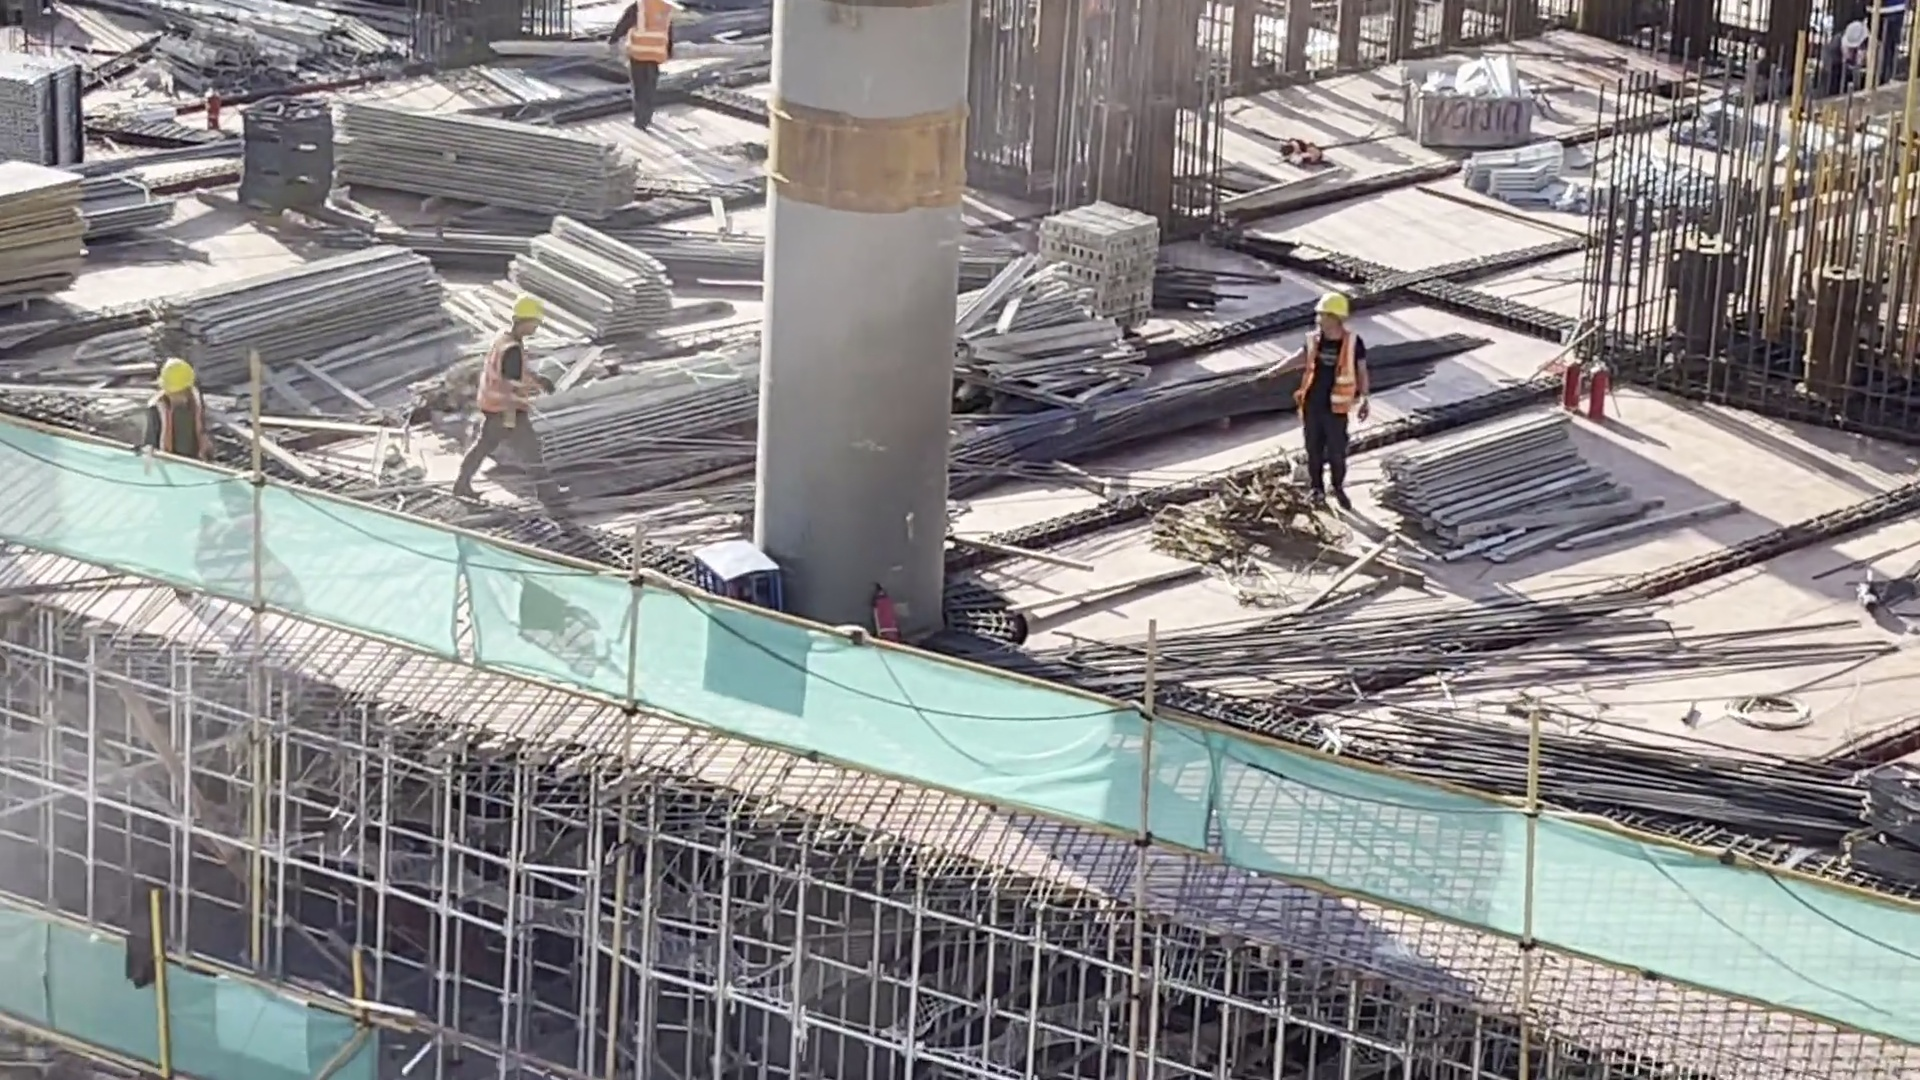board: (1, 154, 92, 308)
helmet: (1308, 286, 1353, 326), (504, 300, 545, 341), (157, 357, 194, 392)
hopper: (1400, 45, 1545, 146)
person: (475, 275, 562, 535), (1293, 274, 1367, 506), (607, 1, 685, 139), (141, 352, 200, 474)
vest: (465, 331, 538, 424), (1292, 330, 1361, 419), (611, 4, 681, 65), (156, 390, 201, 460)
wood: (319, 76, 645, 231), (504, 350, 764, 494), (1362, 391, 1608, 543), (171, 249, 452, 375), (500, 208, 670, 343)
